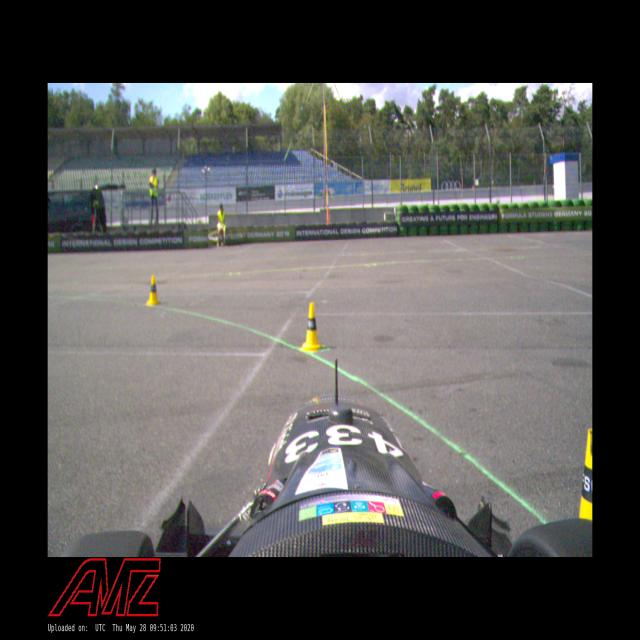yellow_cone: (301, 302, 322, 353), (146, 273, 159, 305)
